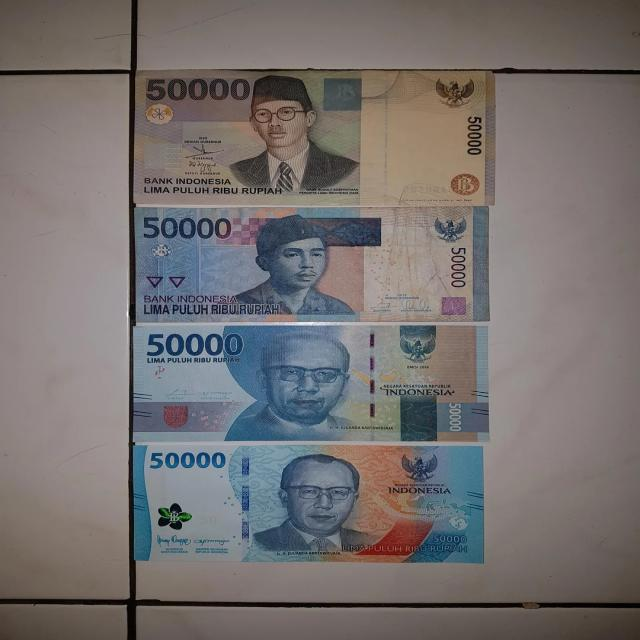lima puluh ribu rupiah: (134, 446, 494, 564), (130, 326, 494, 438), (134, 209, 492, 318)
